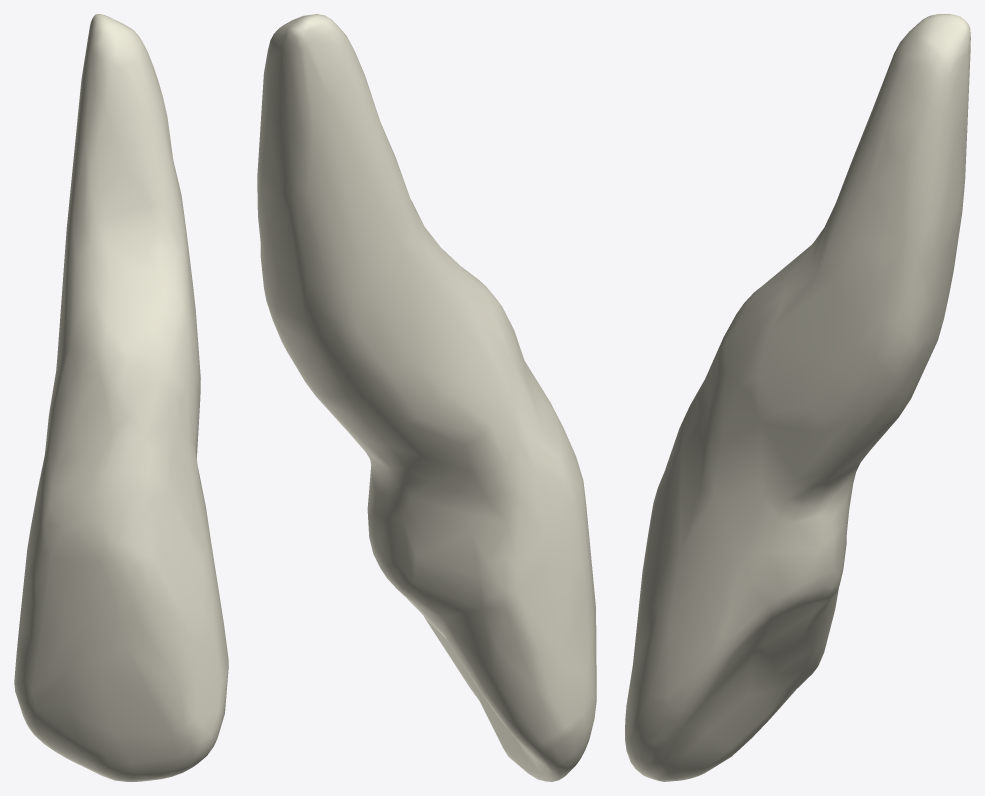
File: Right upper lateral incisor tooth.fbx
3 views of the same model, side by side, from view 1: azimuth 30°, elevation 25°; view 2: azimuth 150°, elevation 25°; view 3: azimuth 270°, elevation 25° (orthographic). The views are drawn at different scales.
Parts seen in each view (by area): view 1: Right upper lateral incisor tooth; view 2: Right upper lateral incisor tooth; view 3: Right upper lateral incisor tooth.
Boxes of the visible parts, x1,y1,x2,y2 form: Right upper lateral incisor tooth: (14, 14, 228, 781); Right upper lateral incisor tooth: (257, 14, 596, 781); Right upper lateral incisor tooth: (625, 14, 970, 781).
Bounding box in the file's own units: 1.28 × 3.85 × 1.5.
